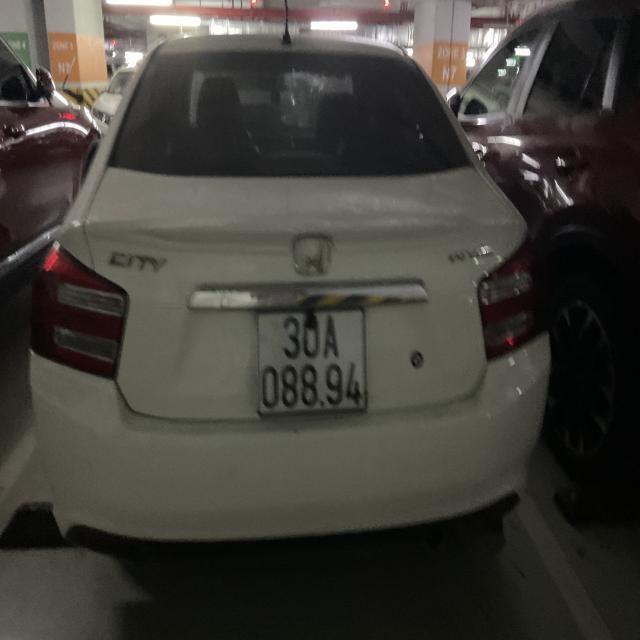license: (255, 306, 368, 417)
